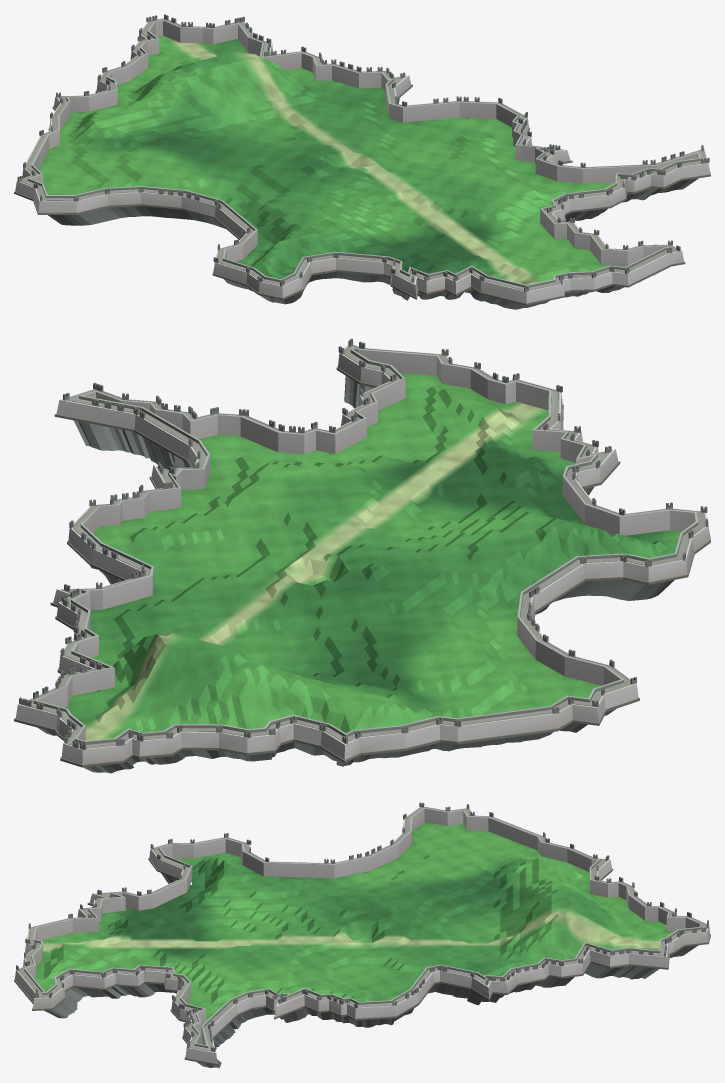
3 views of the same model, one above another, from view 1: azimuth 30°, elevation 25°; view 2: azimuth 150°, elevation 25°; view 3: azimuth 270°, elevation 25° (orthographic). The views are drawn at different scales.
Parts seen in each view (by area): view 1: ground_c0d583c4; view 2: ground_c0d583c4; view 3: ground_c0d583c4.
Boxes of the visible parts, x1,y1,x2,y2 form: ground_c0d583c4: (14,14,710,309); ground_c0d583c4: (14,338,710,773); ground_c0d583c4: (14,802,710,1068).
Size of the model in its own units: 138 by 11.75 by 163.
3 materials, 1 textured.
